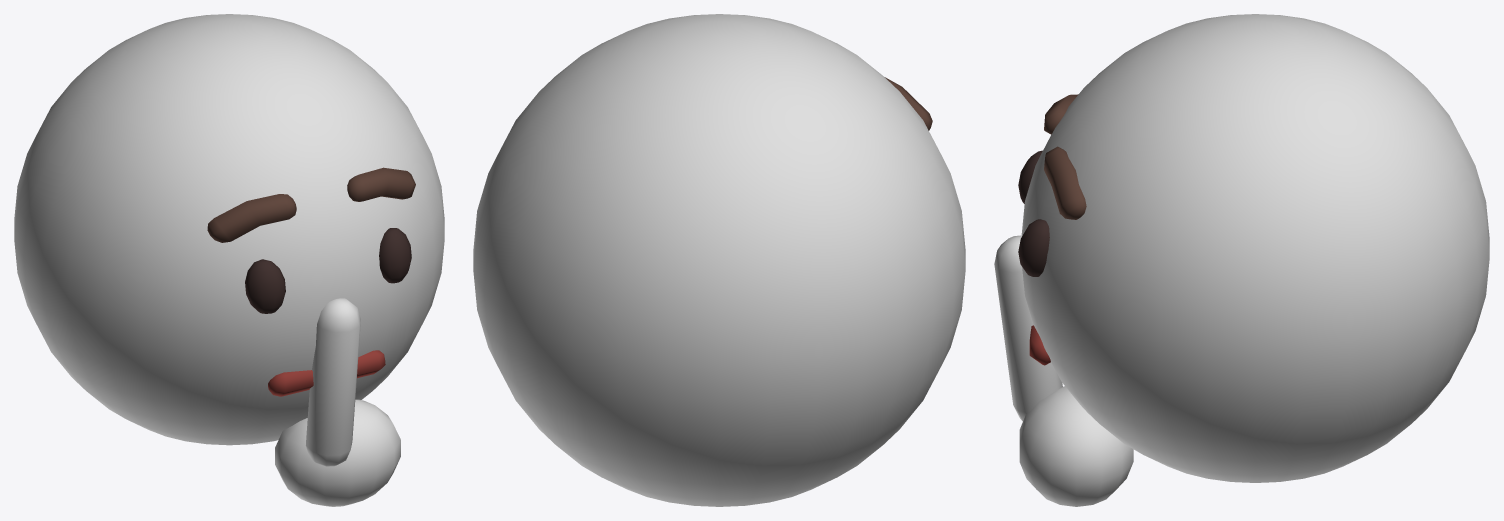
The model's file is face_shush.glb.
3 renders of one model, left to right at view 1: azimuth 30°, elevation 25°; view 2: azimuth 150°, elevation 25°; view 3: azimuth 270°, elevation 25°, orthographic. The views are drawn at different scales.
Parts seen in each view (by area): view 1: face_shush; view 2: face_shush; view 3: face_shush.
Part boxes in pixels (box(x1,y1,x2,y2)): face_shush: box(14, 14, 444, 506); face_shush: box(473, 14, 965, 506); face_shush: box(994, 14, 1489, 506).
Size of the model in its own units: 0.947 by 1 by 0.9961.
